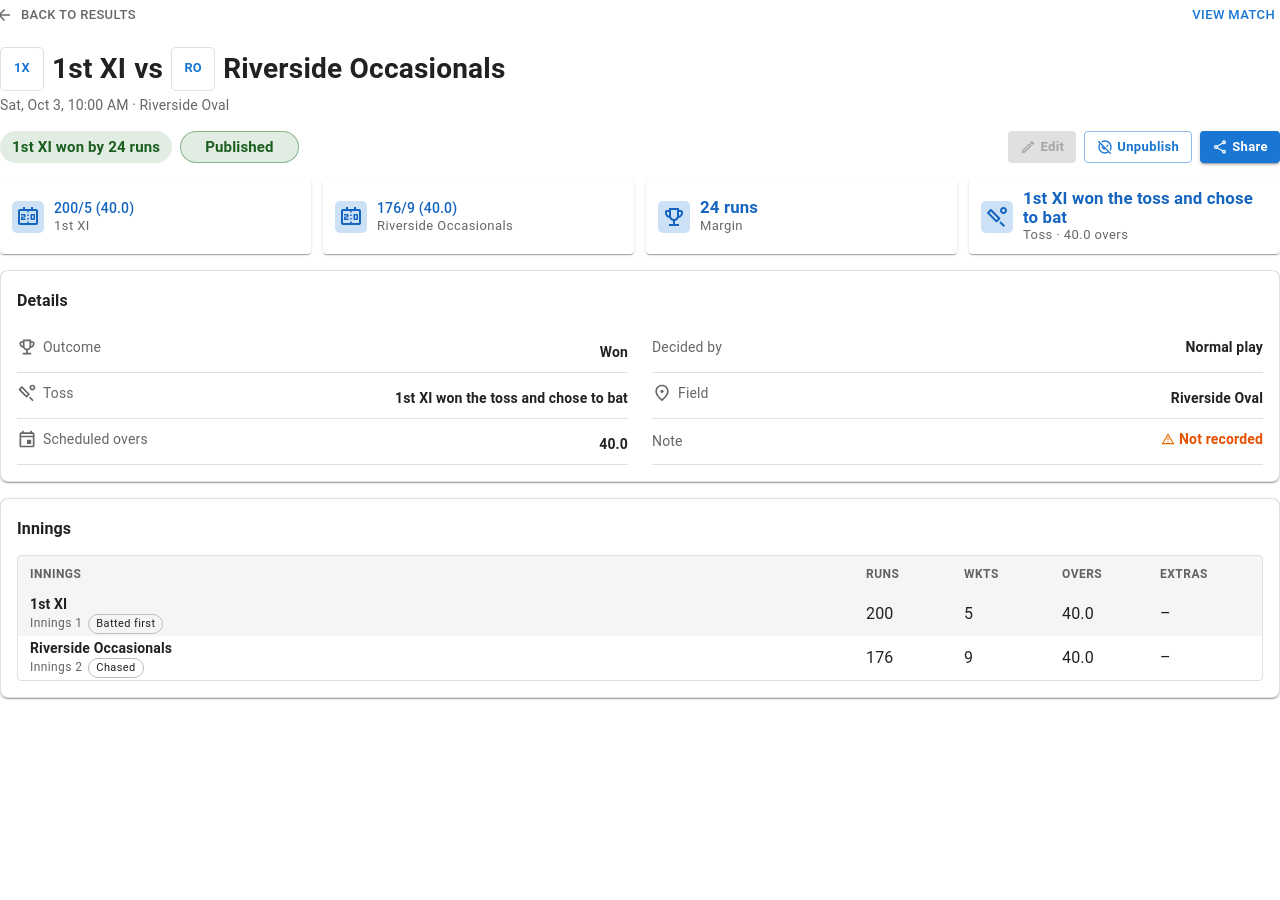
it: ResultDetailPage › published › has an enabled Share button that opens the Share dialog
Step 1. Click the button "Share" → x=1240, y=147, box [1200, 131, 1279, 163]
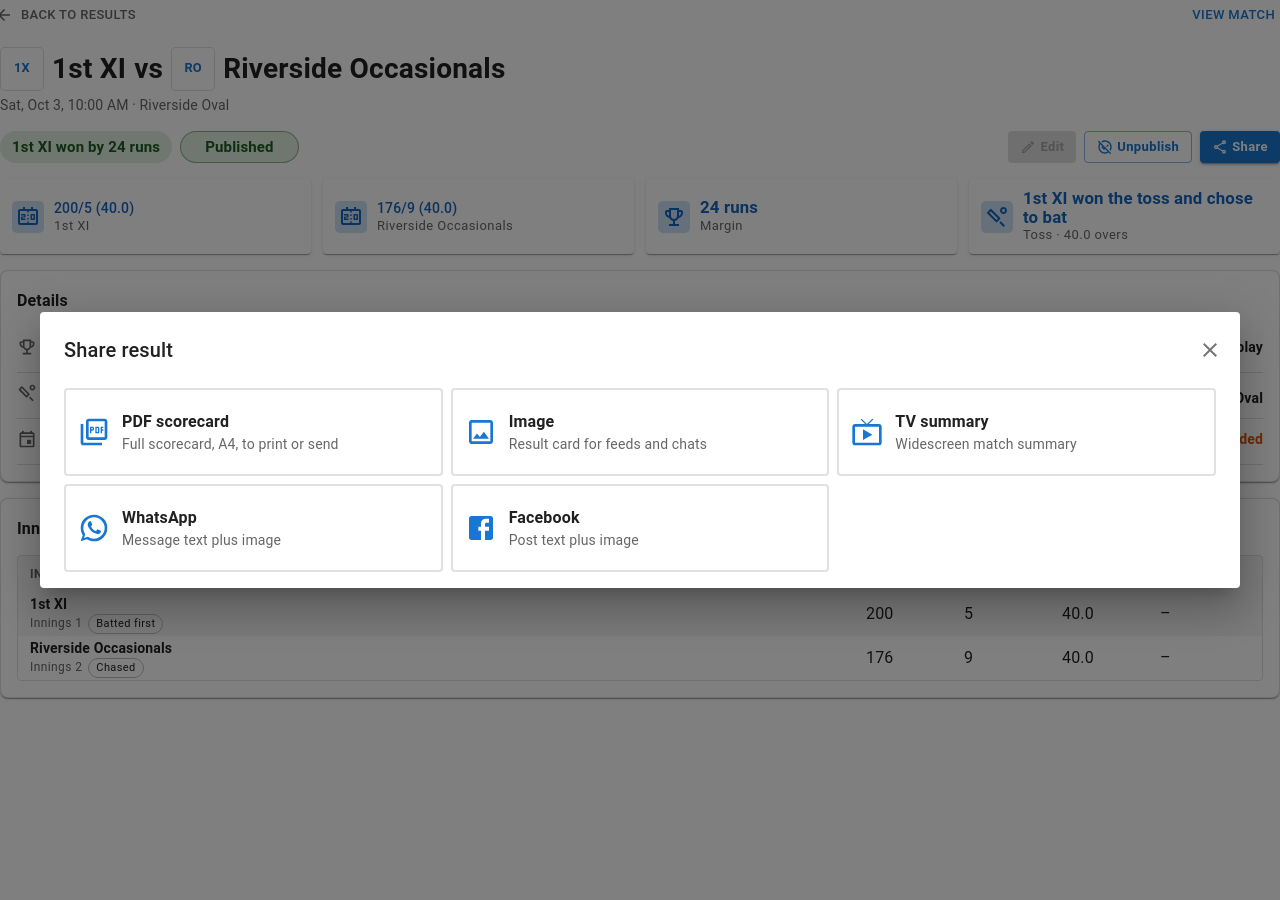
Check: the dialog "Share result" is shown, box [40, 312, 1240, 588]
